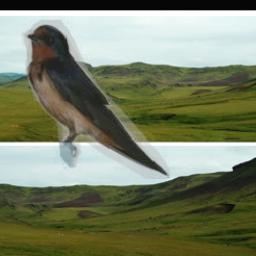Swallow: (22, 21, 170, 180)
